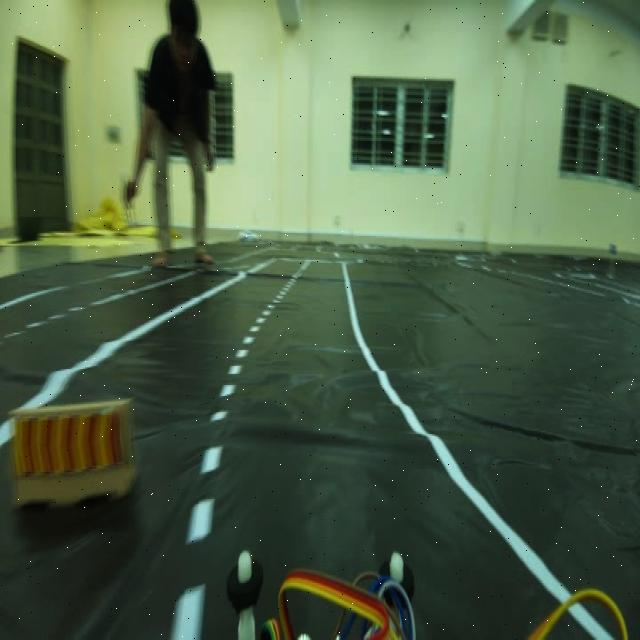roadblock: (8, 401, 144, 512)
